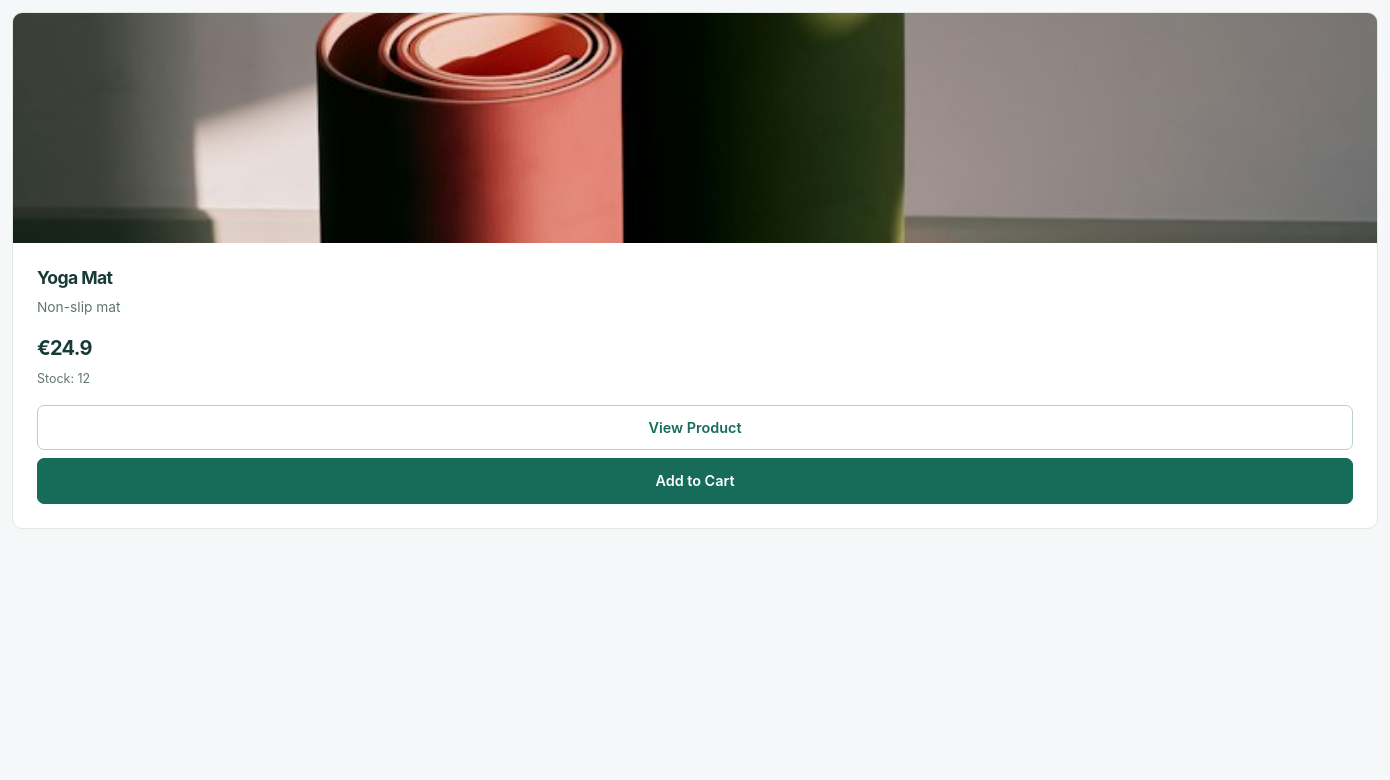
Test: ProductCard › adds one item to the cart and confirms it
Click the button "Add to Cart": click(695, 481) [37,458,1353,504]
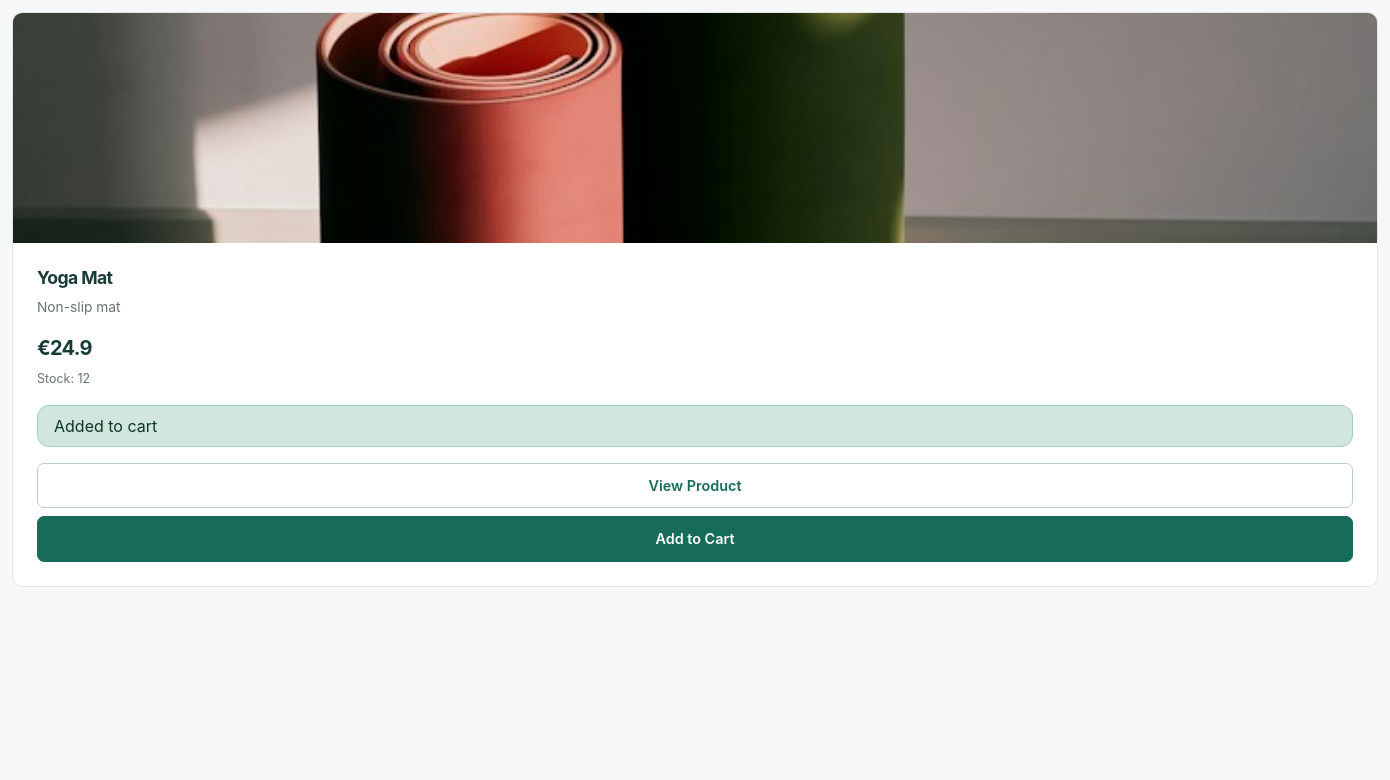
Result: the text "Added to cart" is shown at [37,405,1353,447]
